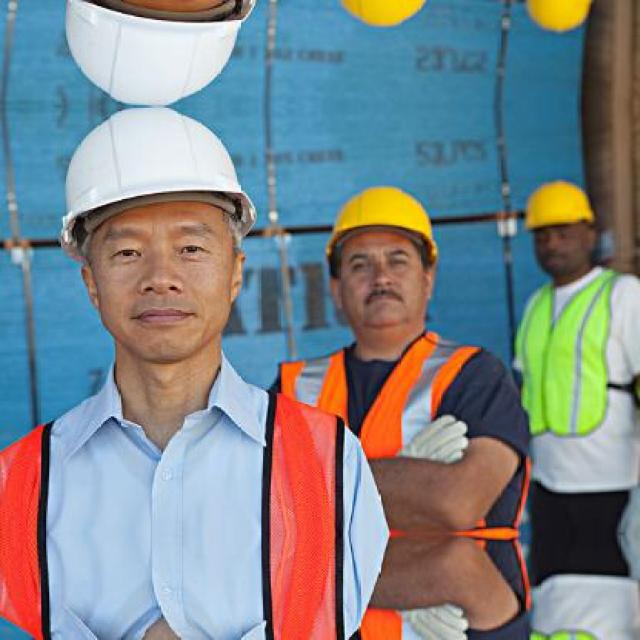helmet: (20, 106, 266, 396), (20, 0, 268, 108), (313, 163, 441, 351), (517, 169, 597, 277), (313, 0, 442, 51), (517, 0, 598, 45)
